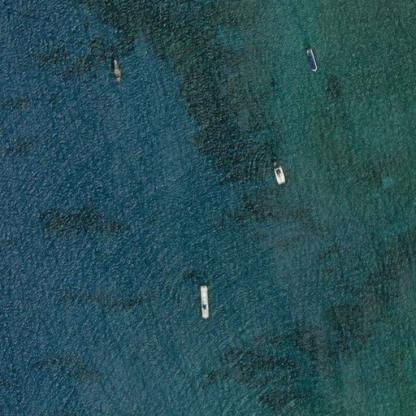ship: (191, 280, 218, 325), (265, 155, 292, 191), (298, 42, 324, 78), (104, 51, 128, 86)
